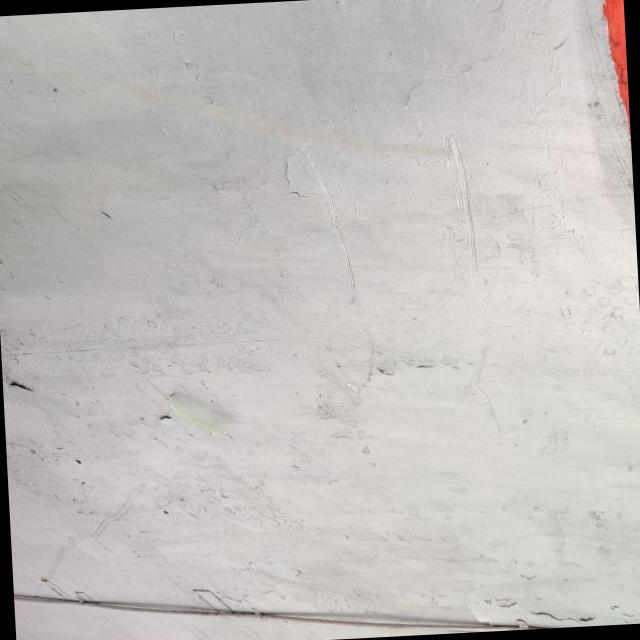Scratch: (286, 143, 377, 308), (441, 135, 478, 282), (463, 327, 502, 444), (355, 295, 377, 382)
